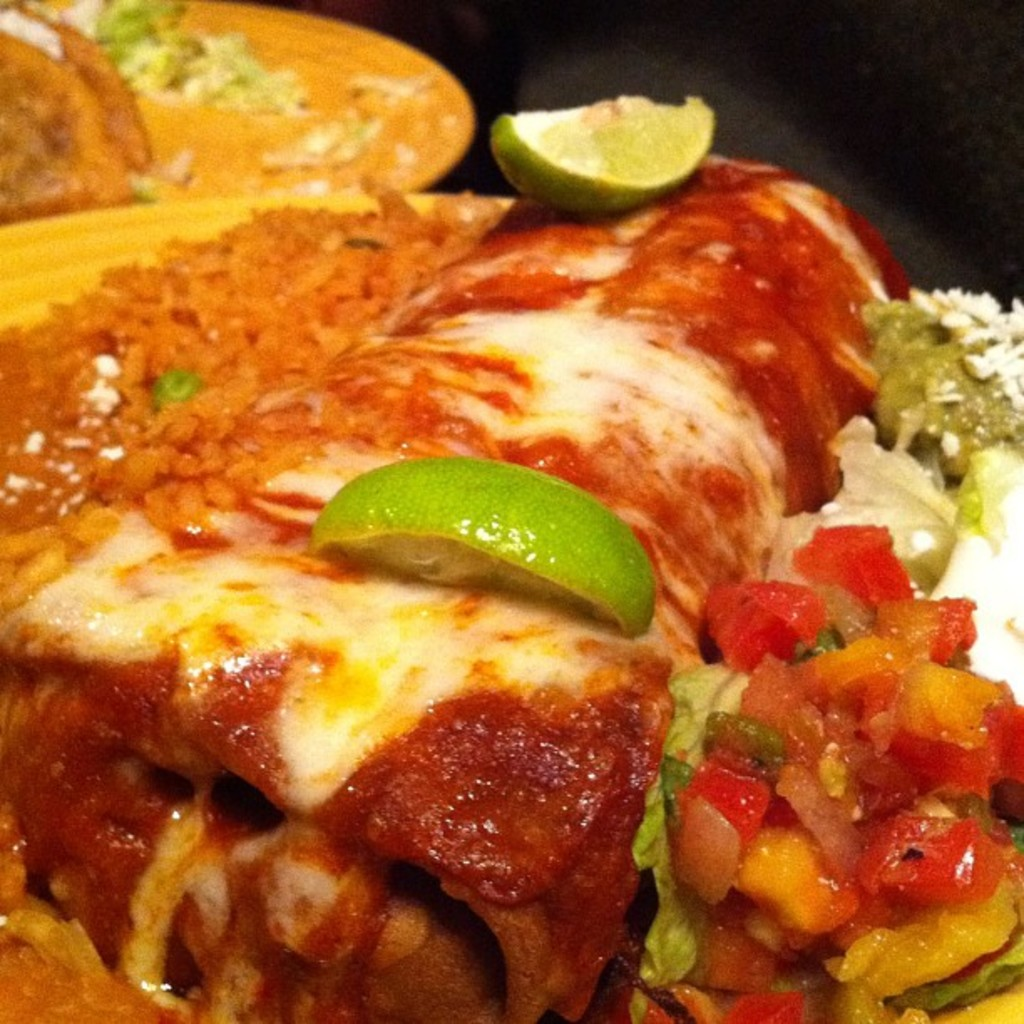taco: (0, 147, 914, 1022)
